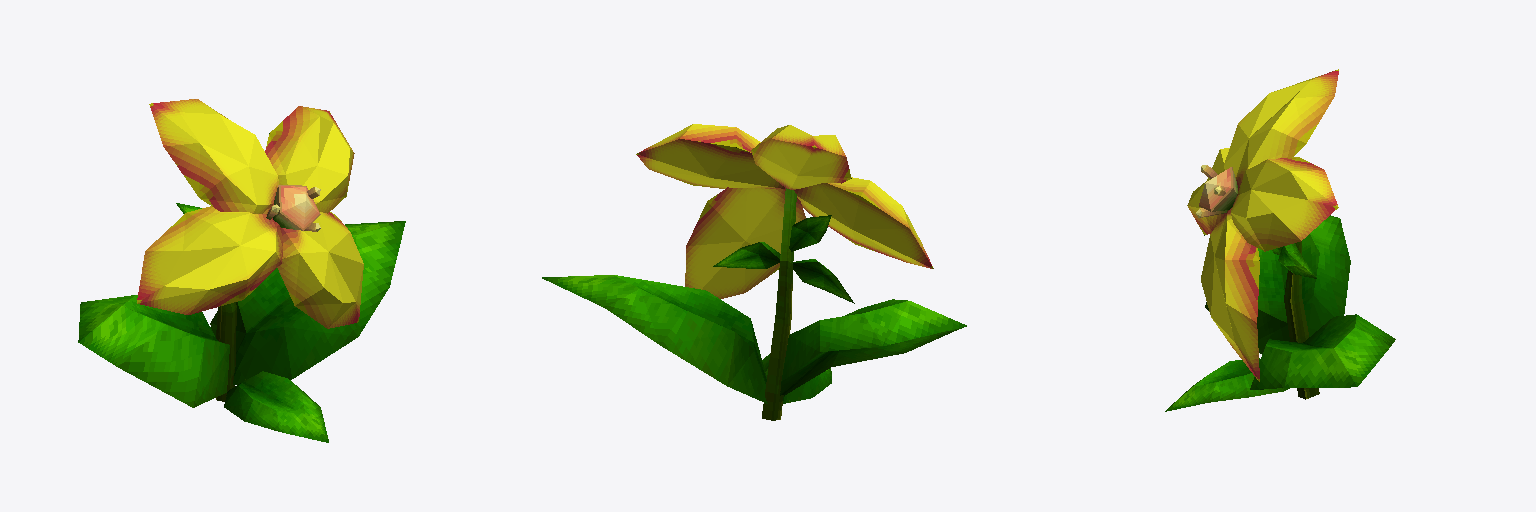
3 renders of one model, left to right at view 1: azimuth 30°, elevation 25°; view 2: azimuth 150°, elevation 25°; view 3: azimuth 270°, elevation 25°, orthographic.
Parts seen in each view (by area): view 1: Inst3D27_RefRep.226_Inst3D27_RefRep.000; view 2: Inst3D27_RefRep.226_Inst3D27_RefRep.000; view 3: Inst3D27_RefRep.226_Inst3D27_RefRep.000.
Part boxes in pixels (left/top/right/bottom): Inst3D27_RefRep.226_Inst3D27_RefRep.000: left=78, top=99, right=405, bottom=442; Inst3D27_RefRep.226_Inst3D27_RefRep.000: left=542, top=124, right=966, bottom=420; Inst3D27_RefRep.226_Inst3D27_RefRep.000: left=1165, top=69, right=1395, bottom=411.
Bounding box in the file's own units: 3.95 × 2.99 × 2.11.
Materials: 1 (1 with a texture image).